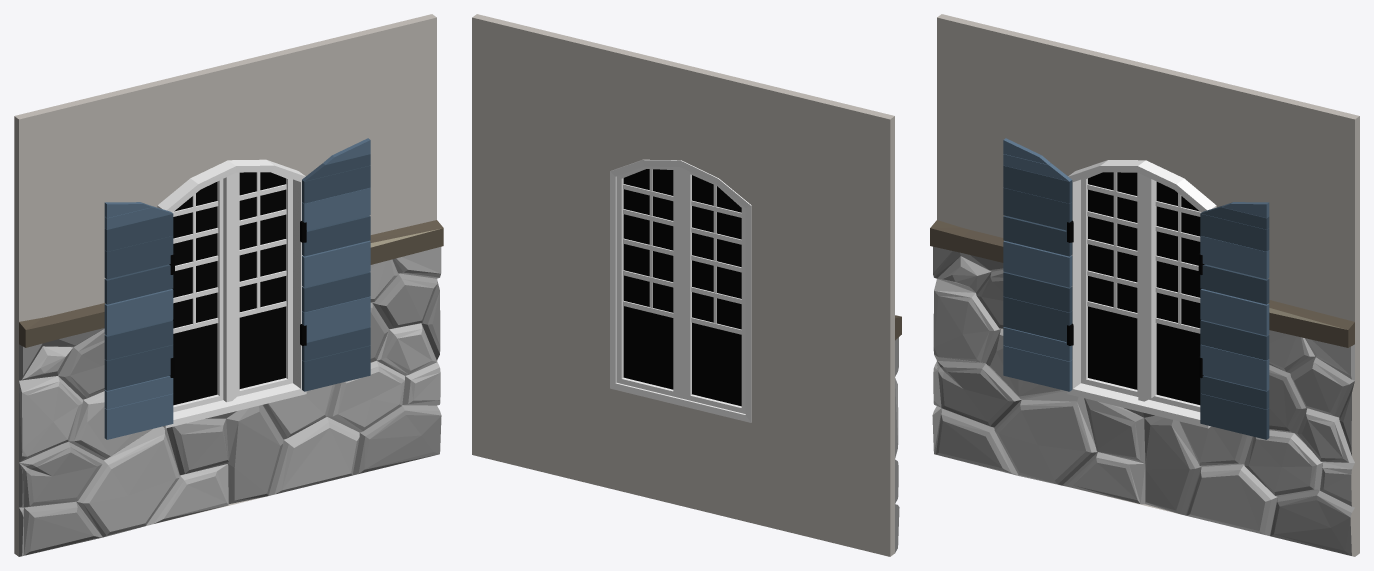
File: _WINDOW_03_1.fbx
3 renders of one model, left to right at view 1: azimuth 30°, elevation 25°; view 2: azimuth 150°, elevation 25°; view 3: azimuth 330°, elevation 25°, orthographic.
Parts seen in each view (by area): view 1: WINDOW_03_1; view 2: WINDOW_03_1; view 3: WINDOW_03_1.
Part boxes in pixels (left/top/right/bottom): WINDOW_03_1: left=14, top=14, right=443, bottom=556; WINDOW_03_1: left=472, top=14, right=901, bottom=556; WINDOW_03_1: left=930, top=14, right=1359, bottom=556.
Bounding box in the file's own units: 300 × 300 × 20.96.
